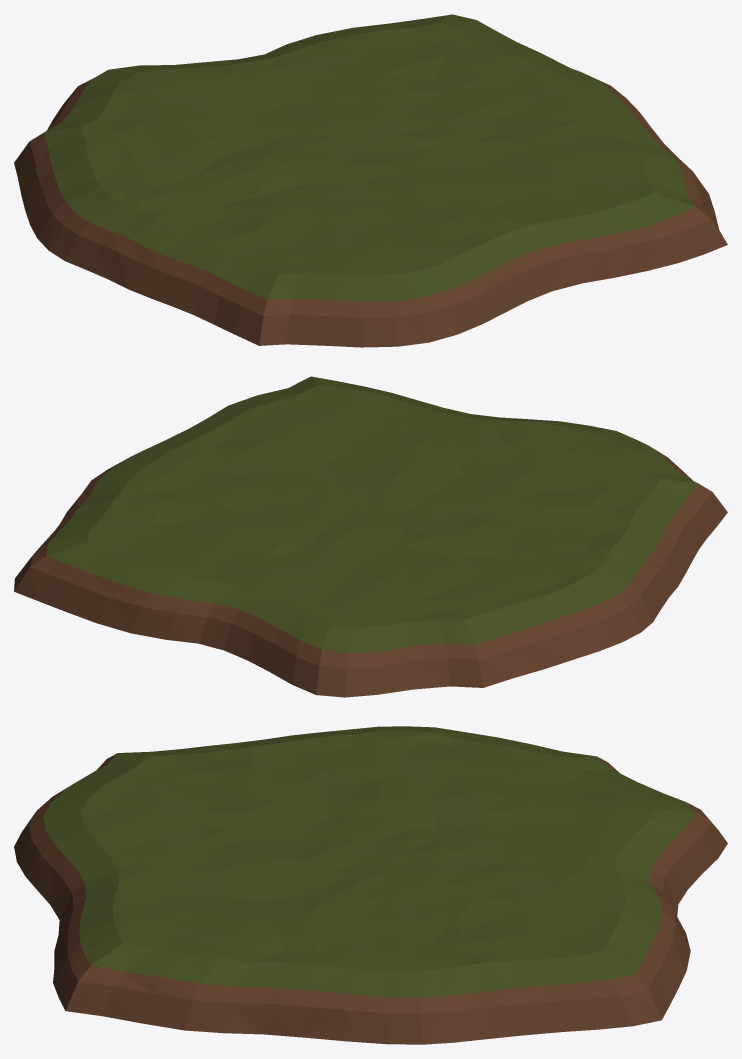
The model's file is Land_1 Village.fbx.
The picture shows the model from 3 angles, top to bottom: view 1: azimuth 30°, elevation 25°; view 2: azimuth 150°, elevation 25°; view 3: azimuth 270°, elevation 25°; orthographic projection. The views are drawn at different scales.
Visible parts, largest first — view 1: Land_1; view 2: Land_1; view 3: Land_1.
Boxes of the visible parts, x1=… form: Land_1: x1=14, y1=14, x2=727, y2=347; Land_1: x1=14, y1=376, x2=727, y2=697; Land_1: x1=14, y1=726, x2=727, y2=1044.
Bounding box in the file's own units: 2.79 × 0.211 × 2.83.
